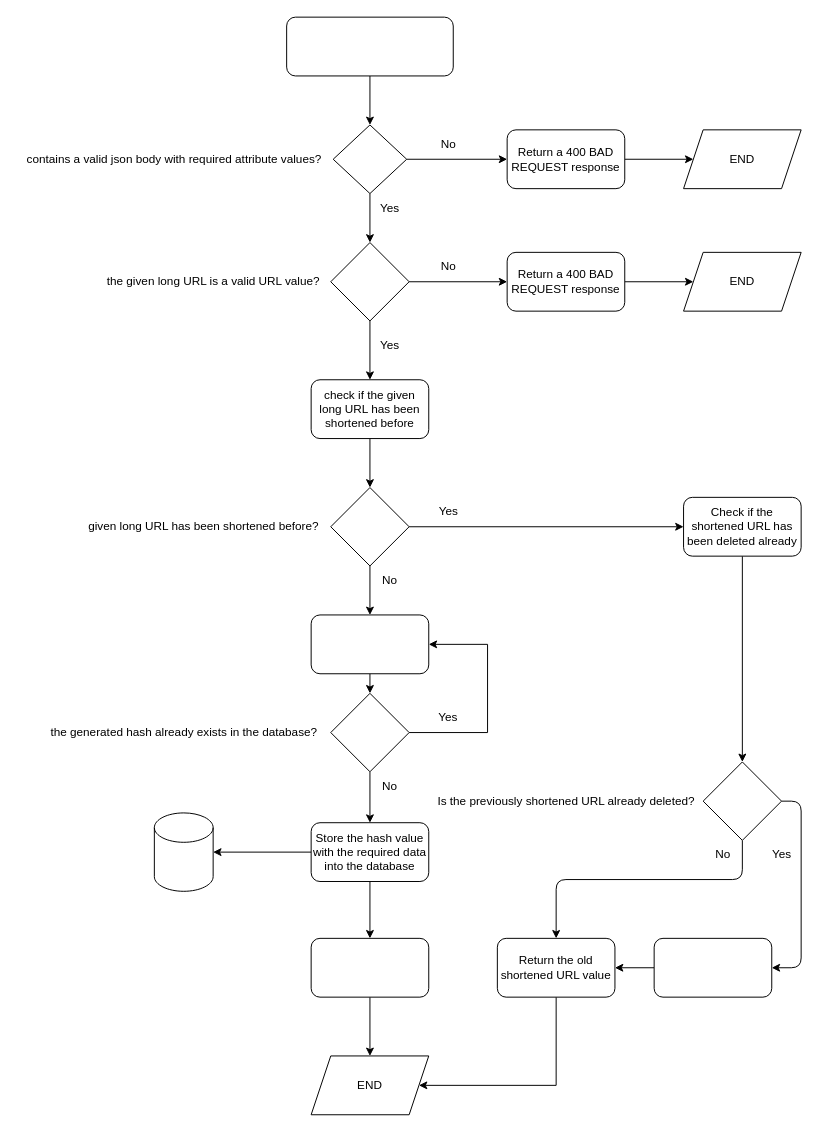
Some shapes in this 826 by 1132 pixel diagram are drawn without their labels. Each missing label, with the box of its shape:
Create a unique hash representing the shortened URL value: (310, 614, 429, 674)
Datbase: (153, 812, 213, 891)
Mark the existing shortened URL as not deleted: (653, 937, 772, 997)
Received a POST request to shorten a long URL: (286, 16, 453, 76)
Return the generated short URL value as response: (310, 937, 429, 997)
